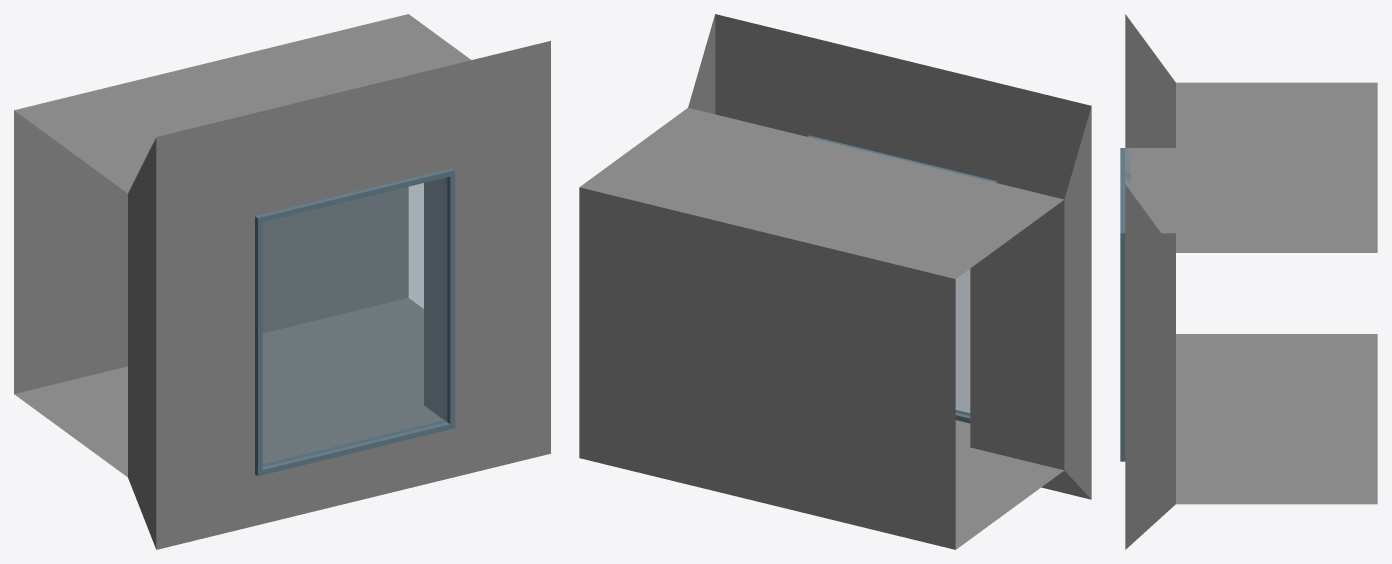
File: officeBuilding01_windowMedium01.FBX
3 renders of one model, left to right at view 1: azimuth 30°, elevation 25°; view 2: azimuth 150°, elevation 25°; view 3: azimuth 270°, elevation 25°, orthographic. The views are drawn at different scales.
Parts seen in each view (by area): view 1: officeBuilding01_windowMedium01; view 2: officeBuilding01_windowMedium01; view 3: officeBuilding01_windowMedium01.
Part boxes in pixels (x1=…): officeBuilding01_windowMedium01: x1=14, y1=14, x2=550, y2=549; officeBuilding01_windowMedium01: x1=579, y1=14, x2=1091, y2=549; officeBuilding01_windowMedium01: x1=1120, y1=14, x2=1377, y2=549.
Size of the model in its own units: 400 by 400 by 255.
